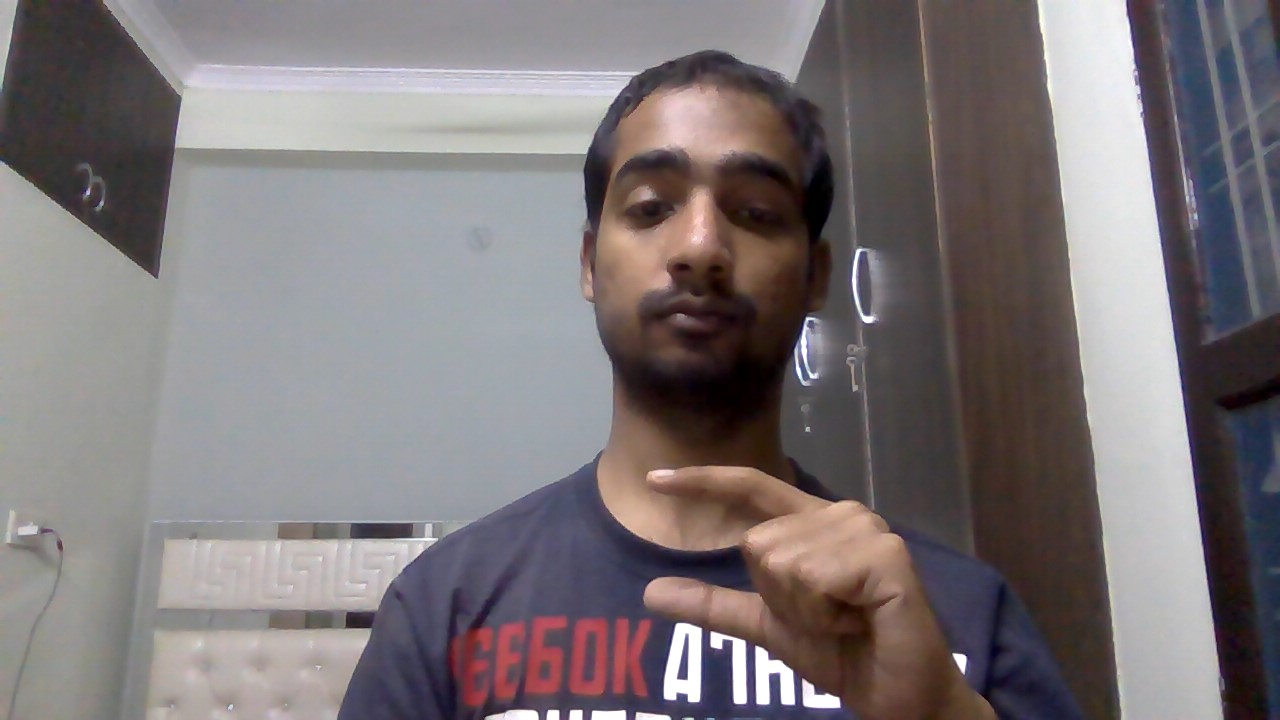Paste: (628, 458, 970, 716)
